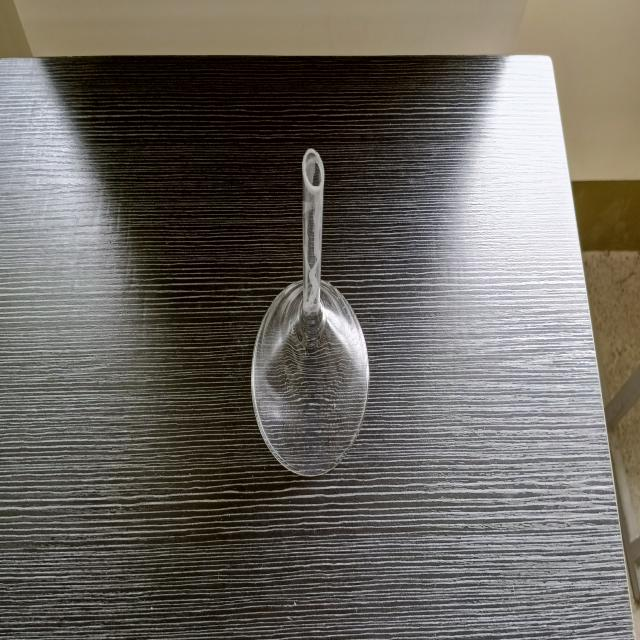funnel: (244, 145, 382, 477)
